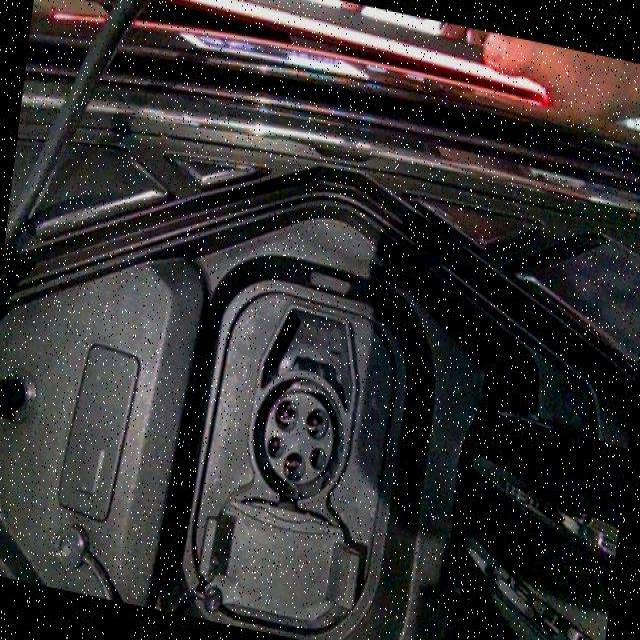Type 1: (235, 366, 353, 495)
